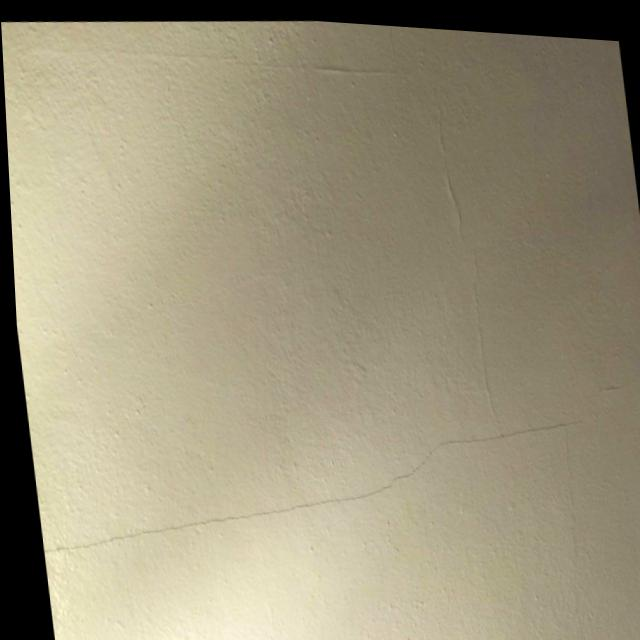Crack: (429, 404, 572, 448), (268, 486, 354, 513), (184, 500, 265, 526), (118, 513, 186, 543), (38, 529, 113, 554), (348, 468, 396, 493), (396, 437, 432, 469)
